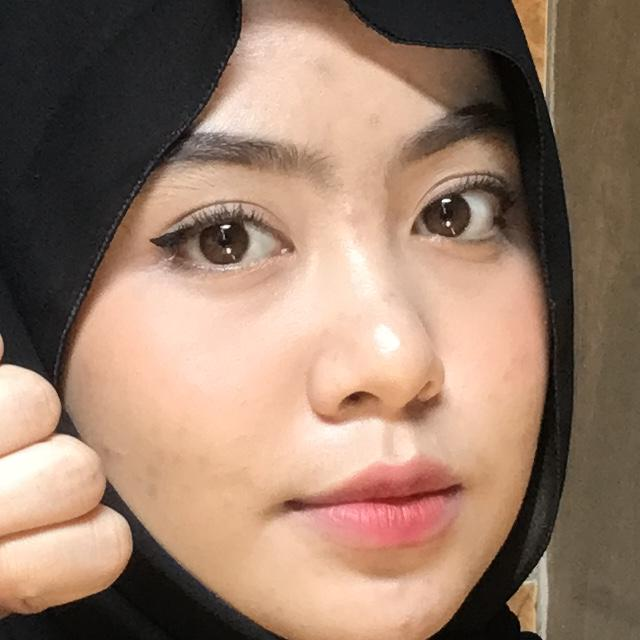sedih: (0, 236, 345, 640)
